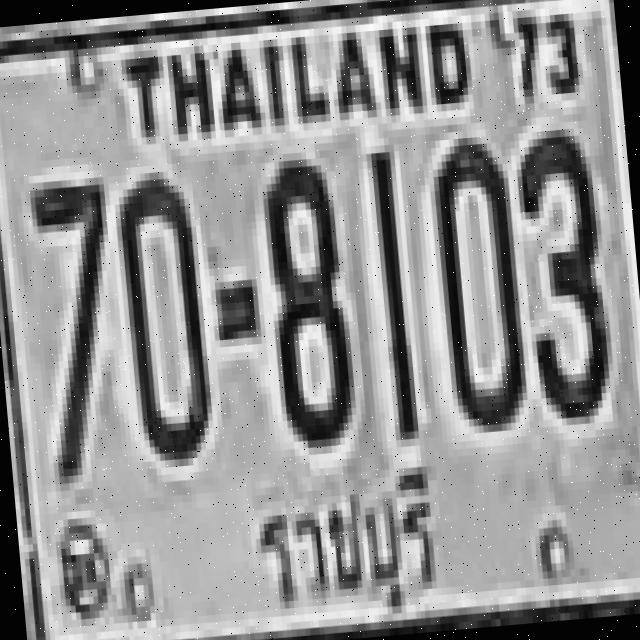0: (425, 131, 524, 424), (114, 169, 212, 455)
1: (366, 145, 414, 433)
3: (510, 124, 610, 416)
7: (26, 174, 126, 474), (27, 174, 118, 380)
8: (260, 150, 354, 442)
Ratchaburi: (244, 457, 444, 632)
